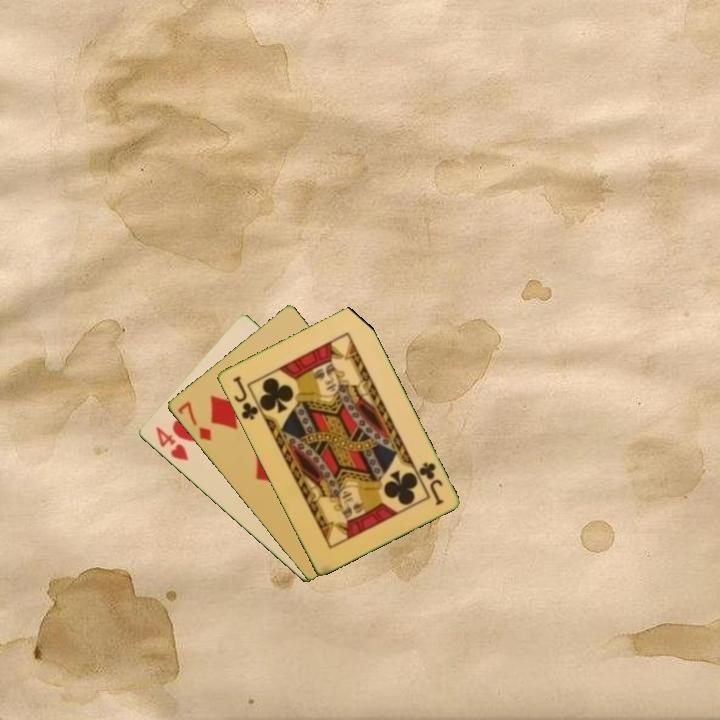4h: (152, 423, 191, 464)
7d: (173, 398, 214, 444)
Jc: (229, 372, 261, 423), (415, 458, 446, 508)
